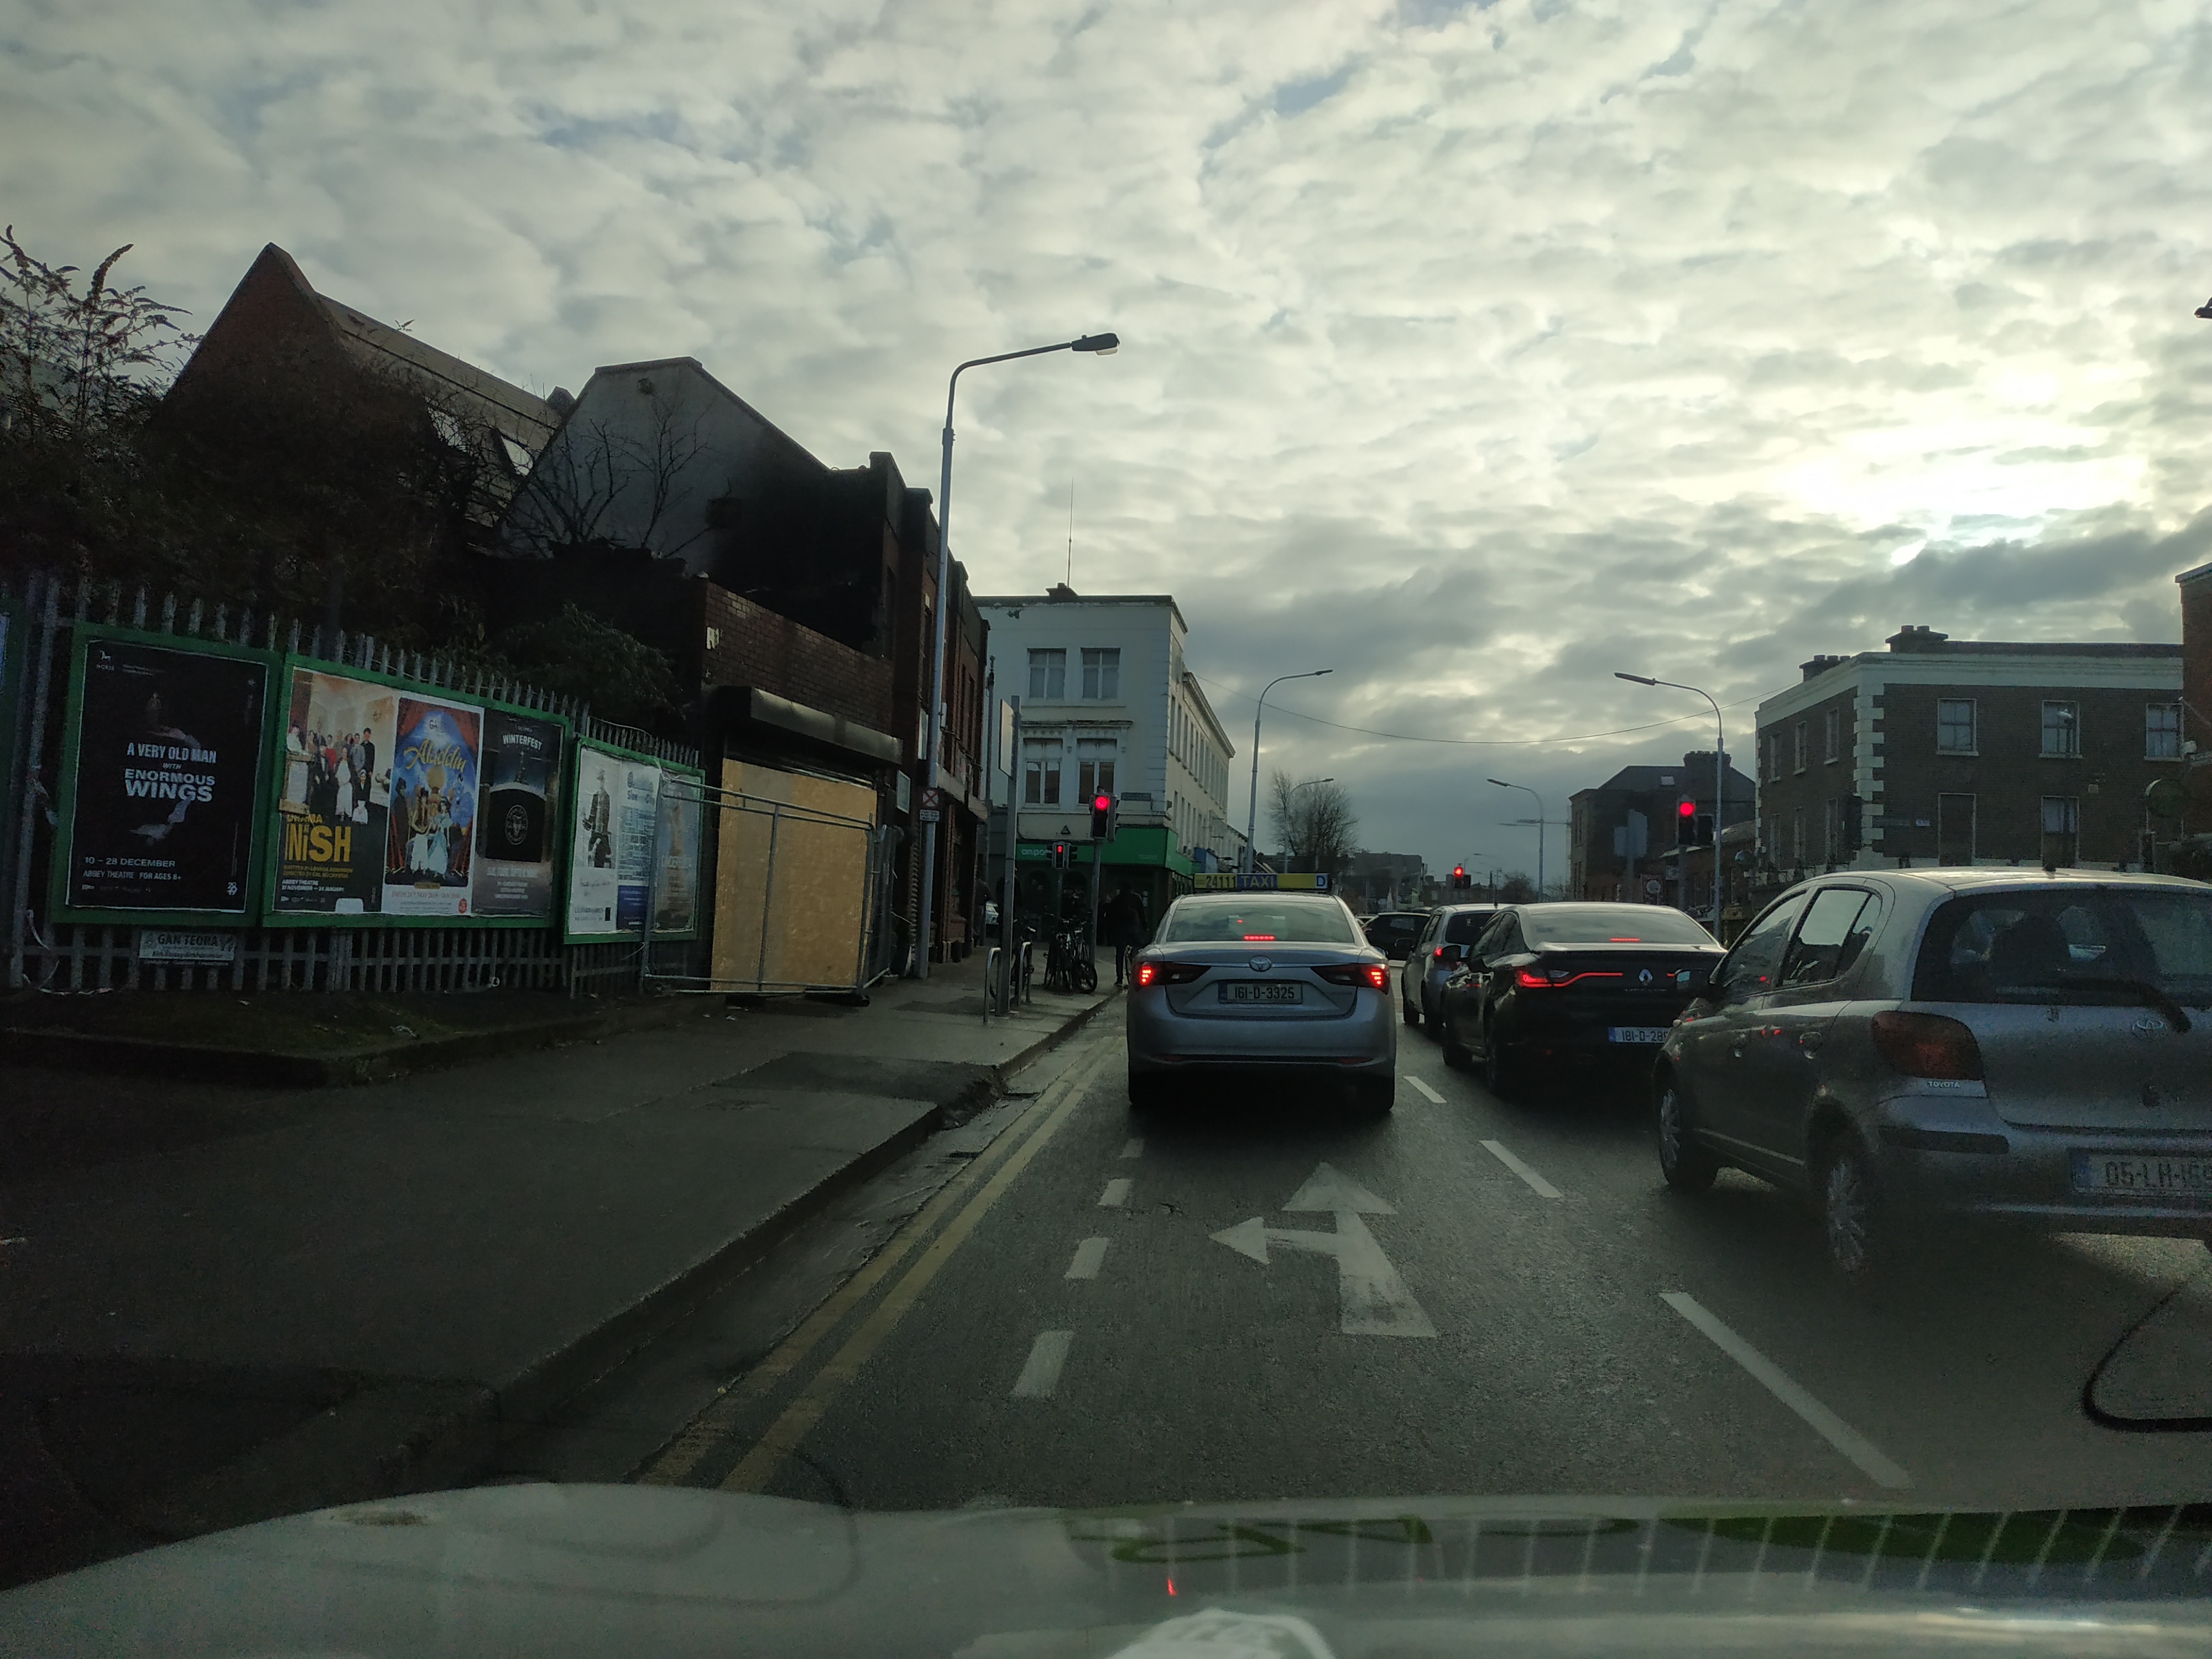Bicycle: (990, 914, 1040, 1003), (1044, 931, 1097, 993), (1115, 929, 1155, 989), (1053, 912, 1077, 977)
Car: (1651, 867, 2212, 1301), (1441, 901, 1743, 1098)
Person: (1106, 880, 1149, 988)
Taxi: (1127, 874, 1396, 1111)
